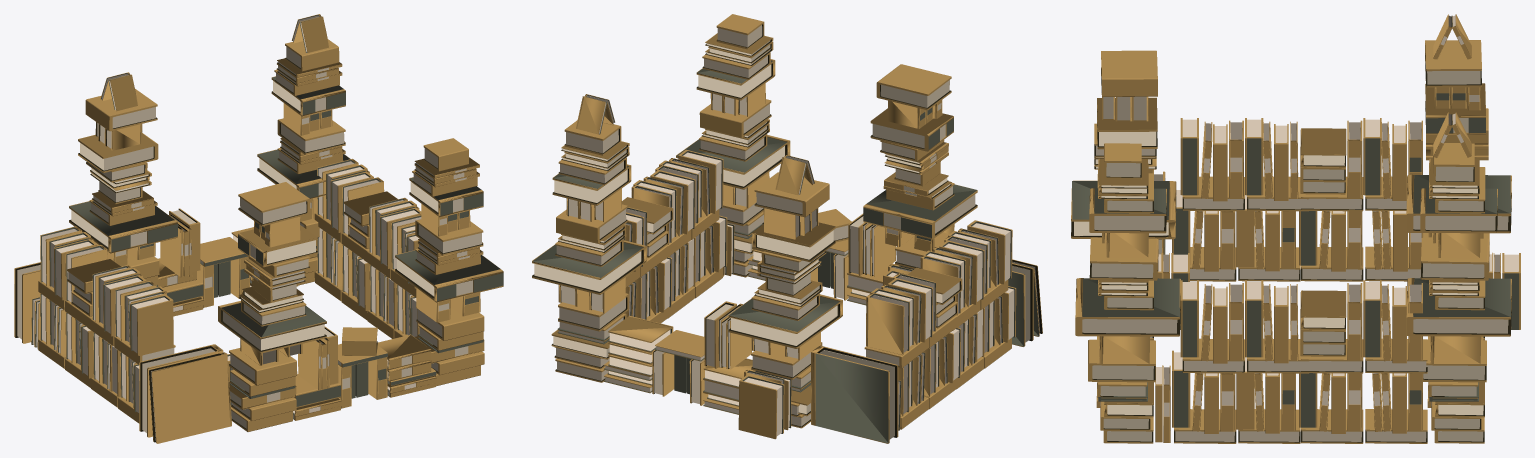
Rendered from Books castle.fbx.
The picture shows the model from 3 angles, left to right: view 1: azimuth 30°, elevation 25°; view 2: azimuth 150°, elevation 25°; view 3: azimuth 270°, elevation 25°; orthographic projection. The views are drawn at different scales.
Visible parts, largest first — view 1: BOOK_LABEL_185, BOOK_LABEL_63, BOOK_LABEL_58, BOOK_LABEL_130, Box002_162, Box002_93, BOOK_LABEL_156, BOOK_LABEL_87, Box002_151, BOOK_LABEL_165, BOOK_LABEL_164, BOOK_LABEL_135 (+79 smaller); view 2: BOOK_LABEL_164, BOOK_LABEL_58, BOOK_LABEL_135, BOOK_LABEL_130, Box002_117, Box002_93, BOOK_LABEL_175, BOOK_LABEL_63, BOOK_LABEL_87, BOOK_LABEL_156, Box002_151, BOOK_LABEL_151 (+74 smaller); view 3: BOOK_LABEL_63, BOOK_LABEL_135, Box002_93, Box002_151, BOOK_LABEL_81, BOOK_LABEL_151, Box002_90, Box002_148, BOOK_LABEL_58, BOOK_LABEL_130, BOOK_LABEL_87, BOOK_LABEL_181 (+107 smaller).
Boxes of the visible parts, x1,y1,x2,y2 form: BOOK_LABEL_185: [148, 352, 231, 443]; BOOK_LABEL_63: [395, 250, 503, 302]; BOOK_LABEL_58: [218, 301, 326, 353]; BOOK_LABEL_130: [69, 201, 177, 253]; Box002_162: [130, 294, 173, 355]; Box002_93: [238, 182, 310, 226]; BOOK_LABEL_156: [78, 133, 158, 172]; BOOK_LABEL_87: [238, 225, 317, 267]; Box002_151: [85, 89, 157, 131]; BOOK_LABEL_165: [139, 344, 223, 437]; BOOK_LABEL_164: [14, 262, 40, 343]; BOOK_LABEL_135: [257, 149, 350, 198]; BOOK_LABEL_164: [811, 345, 898, 443]; BOOK_LABEL_58: [863, 184, 977, 239]; BOOK_LABEL_135: [532, 240, 646, 294]; BOOK_LABEL_130: [728, 294, 842, 348]; Box002_117: [738, 375, 784, 439]; Box002_93: [876, 64, 951, 110]; BOOK_LABEL_175: [866, 292, 909, 355]; BOOK_LABEL_63: [676, 135, 790, 189]; BOOK_LABEL_87: [870, 108, 953, 151]; BOOK_LABEL_156: [752, 222, 835, 262]; Box002_151: [754, 172, 829, 217]; BOOK_LABEL_151: [552, 164, 631, 205]; BOOK_LABEL_63: [1075, 278, 1180, 336]; BOOK_LABEL_135: [1406, 278, 1511, 336]; Box002_93: [1101, 50, 1157, 96]; Box002_151: [1425, 40, 1481, 87]; BOOK_LABEL_81: [1089, 188, 1166, 233]; BOOK_LABEL_151: [1420, 188, 1497, 233]; Box002_90: [1089, 237, 1158, 280]; Box002_148: [1420, 237, 1489, 280]; BOOK_LABEL_58: [1071, 180, 1176, 239]; BOOK_LABEL_130: [1406, 174, 1511, 233]; BOOK_LABEL_87: [1097, 97, 1157, 149]; BOOK_LABEL_181: [1300, 128, 1346, 167].
Bounding box in the file's own units: 575 × 433 × 568.
